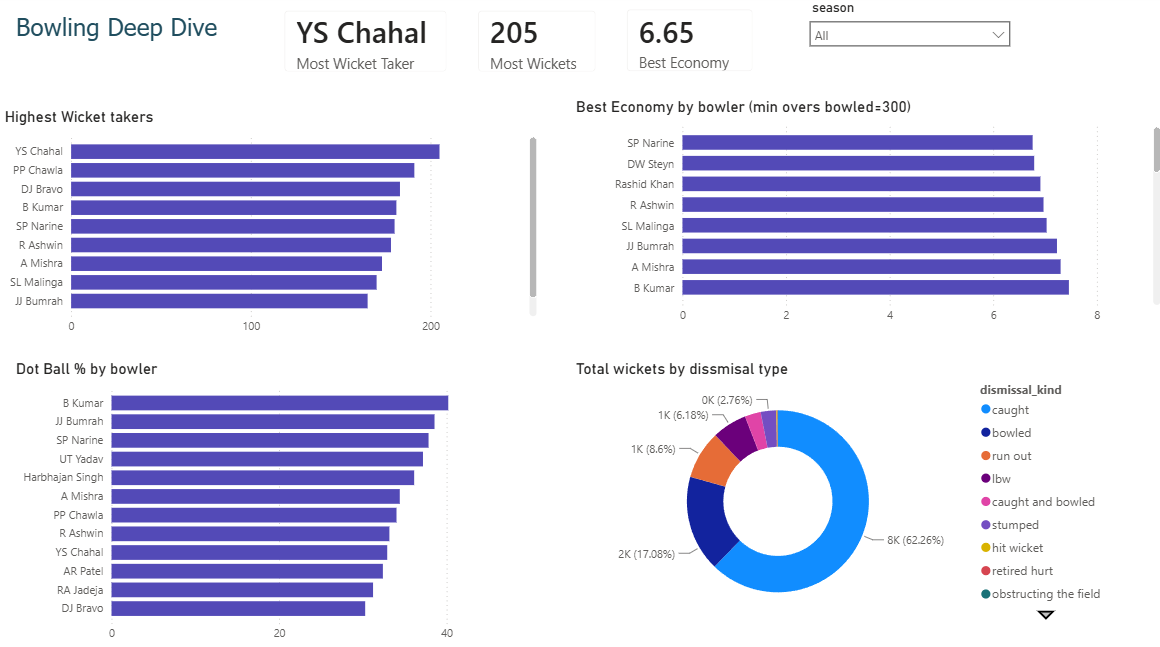

What the dashboard file says about the page in this screenshot:
{"tool":"powerbi","page":{"name":"Bowling Analysis","canvas":[1280,720],"ordinal":3},"visuals":[{"type":"cardVisual","fields":{"Data":["ipl deliveries.Best Economy"]},"box":[672.4,0,172.9,102.9],"z":0},{"type":"clusteredBarChart","title":"Highest Wicket takers","fields":{"Category":["ipl bowling_summary_season.bowler"],"Y":["Sum(ipl bowling_summary_season.wickets)"]},"box":[1.4,124.9,594.2,258],"z":1000},{"type":"clusteredBarChart","title":"Best Economy by bowler (min overs bowled=300)","fields":{"Category":["ipl bowling_summary .bowler"],"Y":["Sum(ipl bowling_summary .economy)"]},"box":[628.5,113.9,651.8,256.6],"z":2000},{"type":"clusteredBarChart","fields":{"Category":["ipl deliveries.bowler"],"Y":["ipl deliveries.Dot Ball %"]},"box":[13.7,400.7,581.8,319.7],"z":3000},{"type":"donutChart","title":"Total wickets by dissmisal type","fields":{"Category":["ipl deliveries.dismissal_kind"],"Y":["ipl deliveries.Total Wickets"]},"box":[628.5,400.7,595.5,293.7],"z":4000},{"type":"slicer","fields":{"Values":["ipl bowling_summary_season.season"]},"box":[879.6,1.4,240.1,102.9],"z":5000},{"type":"cardVisual","fields":{"Data":["ipl bowling_summary .Most Wicket Taker"]},"box":[296.4,1.4,212.7,101.5],"z":6000},{"type":"textbox","box":[13.7,15.1,251.1,65.9],"z":7000},{"type":"cardVisual","fields":{"Data":["ipl bowling_summary .Most Wickets"]},"box":[509.1,1.4,163.3,101.5],"z":7001}]}

Visuals, with their boxes in screenshot pixels (x1, y1, x2, y2), scaled from the page's 1280x720 canvas onto the 1160x647 screenshot:
cardVisual - ipl deliveries.Best Economy: <box>609,0,766,92</box>
"Highest Wicket takers" clusteredBarChart: <box>1,112,540,344</box>
"Best Economy by bowler (min overs bowled=300)" clusteredBarChart: <box>570,102,1159,333</box>
clusteredBarChart - ipl deliveries.bowler x ipl deliveries.Dot Ball %: <box>12,360,540,646</box>
"Total wickets by dissmisal type" donutChart: <box>570,360,1109,624</box>
slicer - ipl bowling_summary_season.season: <box>797,1,1015,94</box>
cardVisual - ipl bowling_summary .Most Wicket Taker: <box>269,1,461,92</box>
textbox: <box>12,14,240,73</box>
cardVisual - ipl bowling_summary .Most Wickets: <box>461,1,609,92</box>
